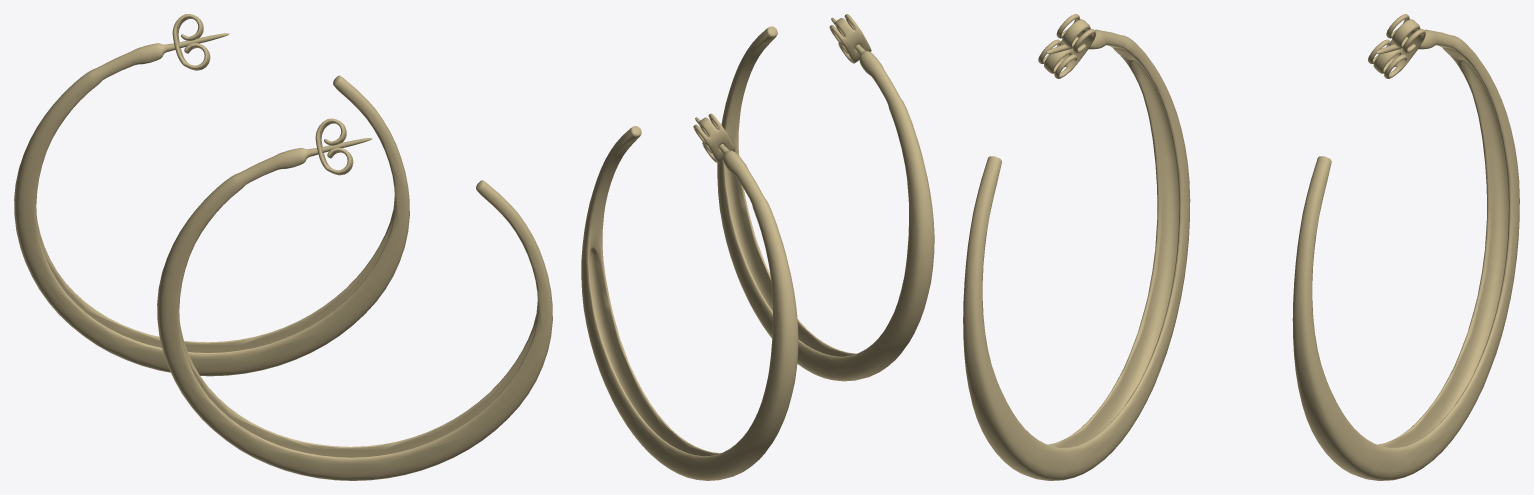
Rendered from earring0.gltf.
3 views of the same model, side by side, from view 1: azimuth 30°, elevation 25°; view 2: azimuth 150°, elevation 25°; view 3: azimuth 270°, elevation 25° (orthographic). The views are drawn at different scales.
Visible parts, largest first — view 1: 11758__earring_v1_l3, 11758__earring_v1_l3.001; view 2: 11758__earring_v1_l3.001, 11758__earring_v1_l3; view 3: 11758__earring_v1_l3.001, 11758__earring_v1_l3.
Boxes of the visible parts, x1,y1,x2,y2 form: 11758__earring_v1_l3: (157, 118, 552, 480); 11758__earring_v1_l3.001: (14, 14, 409, 376); 11758__earring_v1_l3.001: (581, 113, 798, 480); 11758__earring_v1_l3: (717, 14, 934, 381); 11758__earring_v1_l3.001: (1292, 14, 1519, 480); 11758__earring_v1_l3: (963, 14, 1190, 480).
Size of the model in its own units: 0.6637 by 0.7663 by 0.8989.
